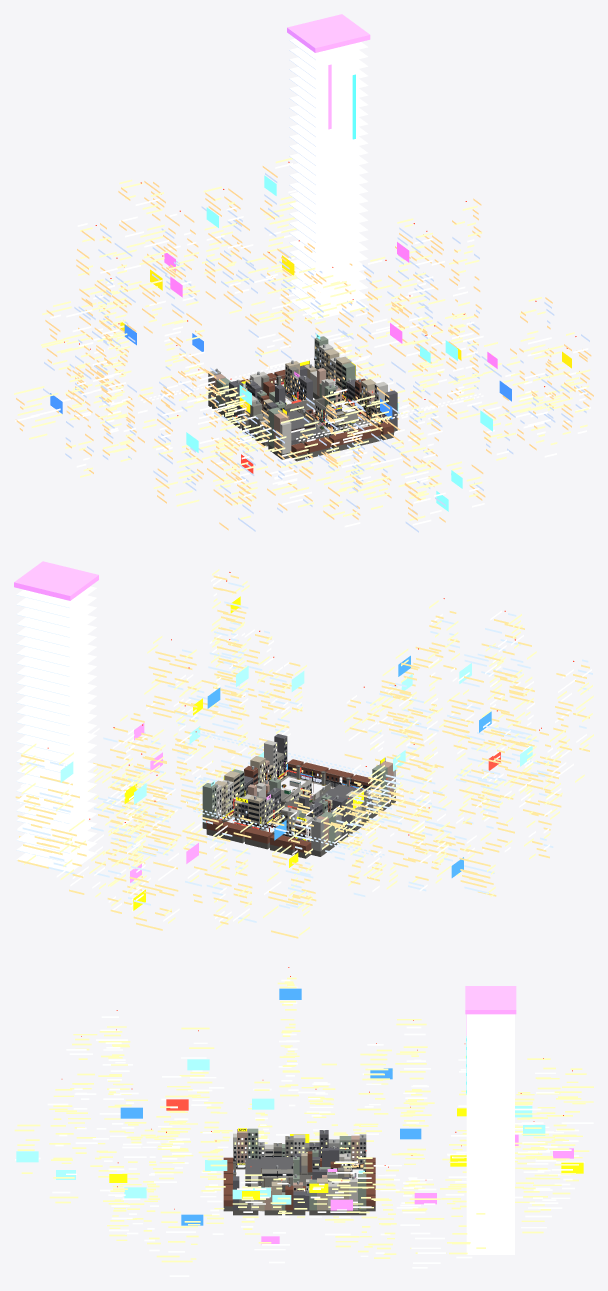
The model's file is kb-town.glb.
The picture shows the model from 3 angles, top to bottom: view 1: azimuth 30°, elevation 25°; view 2: azimuth 150°, elevation 25°; view 3: azimuth 270°, elevation 25°; orthographic projection. The views are drawn at different scales.
Visible parts, largest first — view 1: glb:gj-neon:GJ_WindowCool|ffffff|0, glb:gj-neon:GJ_WindowLit|ffffff|0, glb:gj-shell:GS_Paint|8c7271|1, glb:gj-neon:GJ_NeonViolet|ffffff|0, glb:gj-shell:GS_Tile|ffffff|1, glb:gj-shell:GS_Brick|ffffff|1, glb:gj-shell:GS_StuccoE|ffffff|1, glb:gj-neon:GJ_Screen|ffffff|0, glb:gj-shell:GS_StuccoC|ffffff|1, glb:gj-shell:GS_Slab|ffffff|1, glb:gj-shell:GS_StuccoA|ffffff|1, glb:gj-shell:GS_Concrete|ffffff|1 (+4 smaller); view 2: glb:gj-neon:GJ_WindowCool|ffffff|0, glb:gj-neon:GJ_WindowLit|ffffff|0, glb:gj-shell:GS_Paint|8c7271|1, glb:gj-shell:GS_Brick|ffffff|1, glb:gj-neon:GJ_NeonViolet|ffffff|0, glb:gj-shell:GS_Tile|ffffff|1, glb:gj-shell:GS_StuccoC|ffffff|1, glb:gj-neon:GJ_Screen|ffffff|0, glb:gj-shell:GS_StuccoE|ffffff|1, glb:gj-shell:GS_StuccoA|ffffff|1, glb:gj-shell:GS_Slab|ffffff|1, glb:gj-neon:GJ_LightboxBlue|ffffff|0 (+5 smaller); view 3: glb:gj-neon:GJ_WindowCool|ffffff|0, glb:gj-neon:GJ_WindowLit|ffffff|0, glb:gj-neon:GJ_Screen|ffffff|0, glb:gj-shell:GS_Paint|8c7271|1, glb:gj-neon:GJ_NeonViolet|ffffff|0, glb:gj-shell:GS_Tile|ffffff|1, glb:gj-shell:GS_StuccoE|ffffff|1, glb:gj-shell:GS_StuccoC|ffffff|1, glb:gj-shell:GS_Brick|ffffff|1, glb:gj-neon:GJ_LightboxBlue|ffffff|0, glb:gj-neon:GJ_LightboxYellow|ffffff|0, glb:gj-shell:GS_Slab|ffffff|1 (+6 smaller).
Part boxes in pixels (left/top/right/bottom): glb:gj-neon:GJ_WindowCool|ffffff|0: left=15, top=38, right=590, bottom=532; glb:gj-neon:GJ_WindowLit|ffffff|0: left=14, top=158, right=593, bottom=530; glb:gj-shell:GS_Paint|8c7271|1: left=215, top=335, right=388, bottom=444; glb:gj-neon:GJ_NeonViolet|ffffff|0: left=287, top=14, right=383, bottom=422; glb:gj-shell:GS_Tile|ffffff|1: left=242, top=344, right=387, bottom=454; glb:gj-shell:GS_Brick|ffffff|1: left=240, top=364, right=393, bottom=455; glb:gj-shell:GS_StuccoE|ffffff|1: left=229, top=366, right=397, bottom=426; glb:gj-neon:GJ_Screen|ffffff|0: left=186, top=175, right=492, bottom=511; glb:gj-shell:GS_StuccoC|ffffff|1: left=216, top=336, right=361, bottom=447; glb:gj-shell:GS_Slab|ffffff|1: left=208, top=392, right=397, bottom=461; glb:gj-shell:GS_StuccoA|ffffff|1: left=263, top=349, right=376, bottom=417; glb:gj-shell:GS_Concrete|ffffff|1: left=240, top=366, right=384, bottom=436; glb:gj-neon:GJ_WindowCool|ffffff|0: left=16, top=575, right=592, bottom=922; glb:gj-neon:GJ_WindowLit|ffffff|0: left=15, top=569, right=593, bottom=938; glb:gj-shell:GS_Paint|8c7271|1: left=211, top=736, right=385, bottom=841; glb:gj-shell:GS_Brick|ffffff|1: left=206, top=759, right=372, bottom=852; glb:gj-neon:GJ_NeonViolet|ffffff|0: left=14, top=561, right=284, bottom=824; glb:gj-shell:GS_Tile|ffffff|1: left=214, top=740, right=395, bottom=836; glb:gj-shell:GS_StuccoC|ffffff|1: left=202, top=765, right=387, bottom=844; glb:gj-neon:GJ_Screen|ffffff|0: left=60, top=663, right=532, bottom=804; glb:gj-shell:GS_StuccoE|ffffff|1: left=234, top=734, right=352, bottom=835; glb:gj-shell:GS_StuccoA|ffffff|1: left=215, top=756, right=332, bottom=826; glb:gj-shell:GS_Slab|ffffff|1: left=202, top=796, right=395, bottom=858; glb:gj-neon:GJ_LightboxBlue|ffffff|0: left=207, top=655, right=491, bottom=877; glb:gj-neon:GJ_WindowCool|ffffff|0: left=15, top=979, right=593, bottom=1276; glb:gj-neon:GJ_WindowLit|ffffff|0: left=14, top=977, right=593, bottom=1262; glb:gj-neon:GJ_Screen|ffffff|0: left=16, top=1059, right=545, bottom=1204; glb:gj-shell:GS_Paint|8c7271|1: left=233, top=1129, right=365, bottom=1193; glb:gj-neon:GJ_NeonViolet|ffffff|0: left=465, top=986, right=516, bottom=1035; glb:gj-shell:GS_Tile|ffffff|1: left=233, top=1133, right=357, bottom=1210; glb:gj-shell:GS_StuccoE|ffffff|1: left=233, top=1130, right=350, bottom=1210; glb:gj-shell:GS_StuccoC|ffffff|1: left=247, top=1128, right=366, bottom=1210; glb:gj-shell:GS_Brick|ffffff|1: left=223, top=1151, right=375, bottom=1210; glb:gj-neon:GJ_LightboxBlue|ffffff|0: left=120, top=988, right=421, bottom=1225; glb:gj-neon:GJ_LightboxYellow|ffffff|0: left=109, top=1108, right=583, bottom=1199; glb:gj-shell:GS_Slab|ffffff|1: left=223, top=1165, right=375, bottom=1215.
Size of the model in its own units: 294 by 173 by 364.
